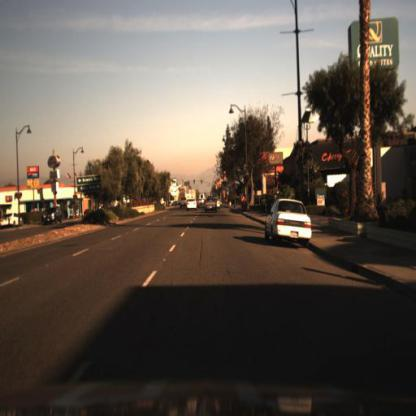car: (260, 197, 316, 257), (40, 203, 69, 229), (203, 195, 219, 214), (187, 196, 199, 212)
